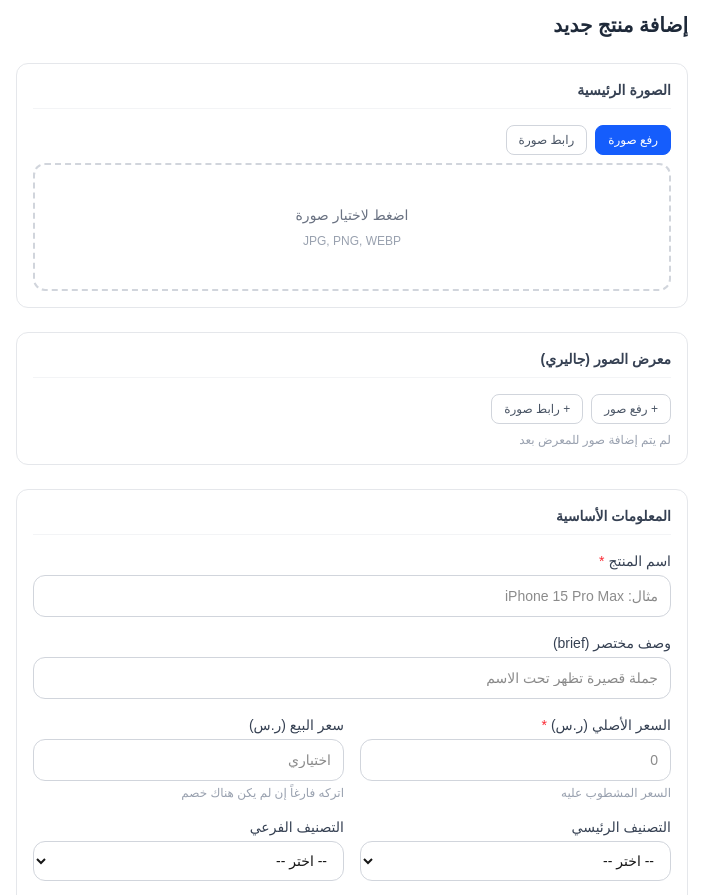
صفحة إضافة منتج جديد — الفيلدات › يظهر input رابط الصورة عند الضغط على رابط صورة
Click the button "رابط صورة". click: (546, 140)
box: x1=506 y1=125 x2=587 y2=155
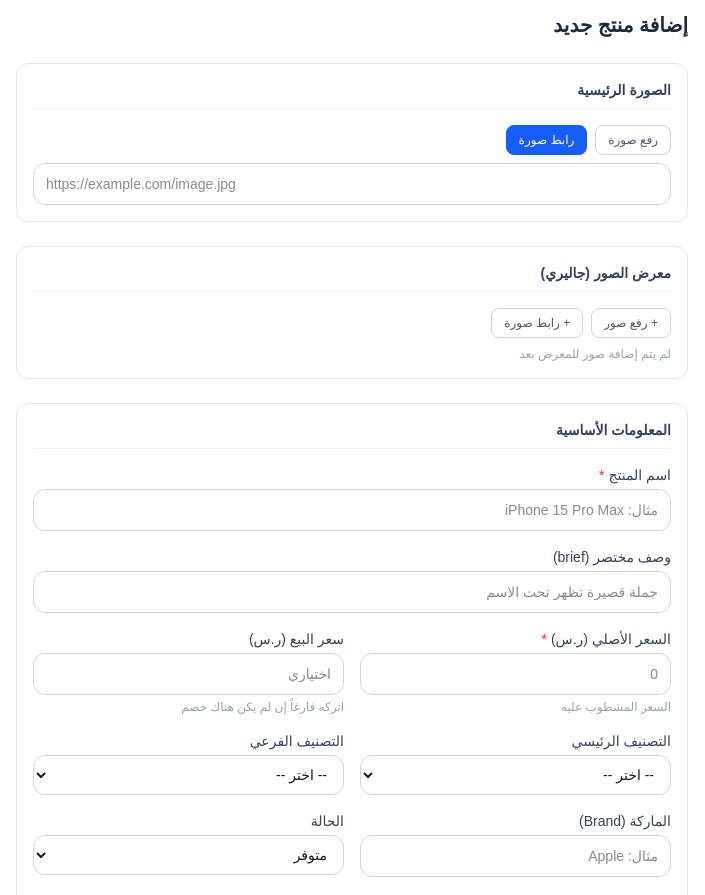
Result: the field with placeholder "https://example.com/image.jpg" is shown at x1=33 y1=163 x2=671 y2=205
